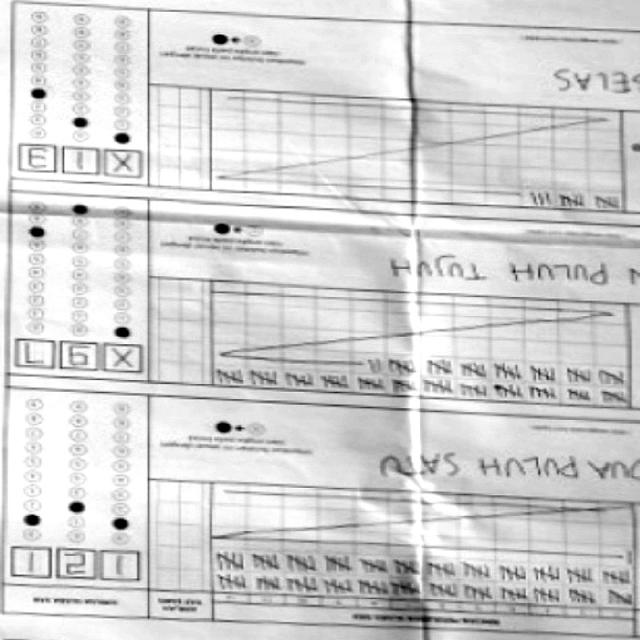Suara: (7, 545, 144, 589), (13, 340, 146, 382), (21, 147, 146, 184)
